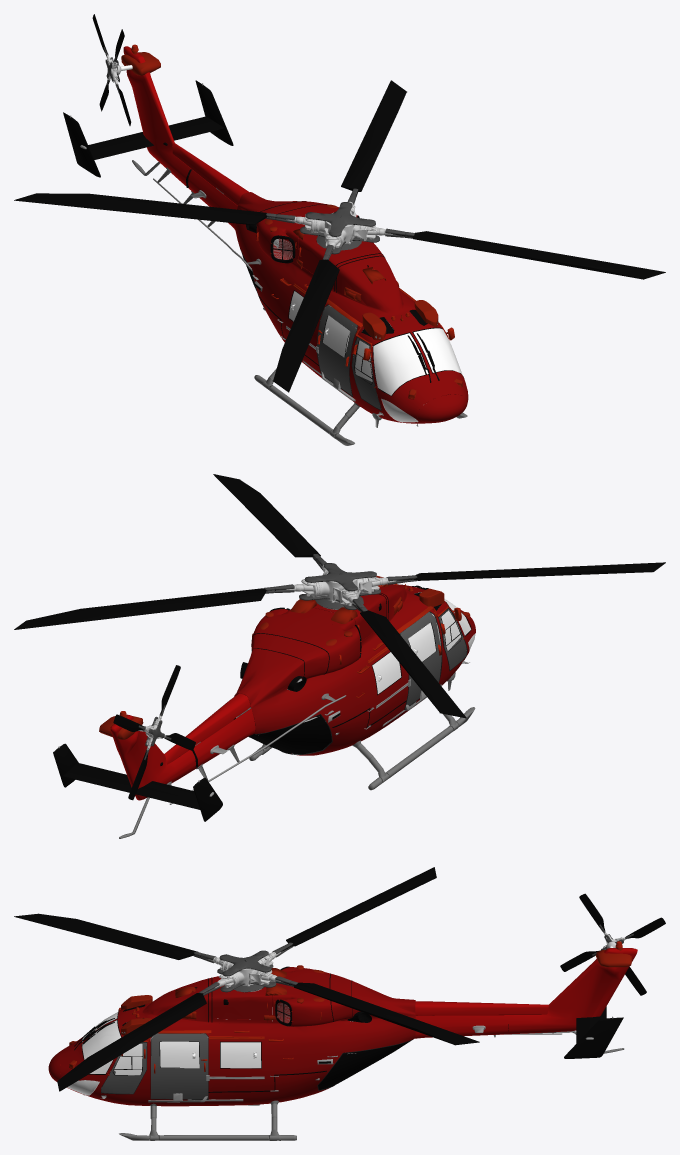
The model's file is helicopter.glb.
The picture shows the model from 3 angles, top to bottom: view 1: azimuth 30°, elevation 25°; view 2: azimuth 150°, elevation 25°; view 3: azimuth 270°, elevation 25°; orthographic projection. The views are drawn at different scales.
Visible parts, largest first — view 1: helicopter_112, heli_base.002_110, helicopter.004_116, blade.001_51, blade.003_53, blade.002_52, blade_42, Plane_140, Plane.001_141, helicopter.008_120, heli_base.003_111, Cylinder_98 (+3 smaller); view 2: helicopter_112, heli_base.002_110, blade_42, blade.001_51, blade.002_52, blade.003_53, Plane_140, helicopter.007_119, Cylinder_98, heli_base.003_111, Plane.001_141, helicopter.008_120 (+4 smaller); view 3: helicopter_112, heli_base.002_110, helicopter.008_120, blade.002_52, blade.003_53, blade_42, blade.001_51, heli_base.003_111, Cylinder_98, helicopter.007_119, Plane.001_141, helicopter.011_123 (+11 smaller).
Part boxes in pixels (x1,y1,x2,y2): helicopter_112: [234, 192, 468, 423]; heli_base.002_110: [123, 46, 238, 229]; helicopter.004_116: [372, 328, 462, 395]; blade.001_51: [14, 193, 276, 225]; blade.003_53: [272, 259, 339, 392]; blade.002_52: [395, 231, 665, 279]; blade_42: [341, 80, 406, 195]; Plane_140: [88, 116, 224, 159]; Plane.001_141: [63, 80, 233, 177]; helicopter.008_120: [317, 305, 357, 395]; heli_base.003_111: [172, 143, 249, 204]; Cylinder_98: [254, 368, 467, 445]; helicopter_112: [234, 584, 475, 755]; heli_base.002_110: [110, 708, 255, 800]; blade_42: [14, 588, 275, 629]; blade.001_51: [357, 606, 466, 718]; blade.002_52: [213, 474, 320, 559]; blade.003_53: [399, 562, 665, 580]; Plane_140: [62, 763, 200, 809]; helicopter.007_119: [234, 714, 331, 754]; Cylinder_98: [249, 707, 475, 790]; heli_base.003_111: [164, 693, 250, 764]; Plane.001_141: [53, 743, 222, 821]; helicopter.008_120: [400, 612, 441, 705]; helicopter_112: [48, 967, 415, 1106]; heli_base.002_110: [414, 948, 637, 1038]; helicopter.008_120: [151, 1033, 208, 1099]; blade.002_52: [57, 991, 208, 1091]; blade.003_53: [14, 913, 200, 959]; blade_42: [283, 982, 479, 1045]; blade.001_51: [282, 867, 436, 951]; heli_base.003_111: [415, 1001, 548, 1015]; Cylinder_98: [119, 1100, 296, 1140]; helicopter.007_119: [318, 1041, 410, 1089]; Plane.001_141: [564, 1017, 623, 1058]; helicopter.011_123: [220, 1042, 261, 1068].
Size of the model in its own units: 11.19 by 5.5 by 15.6.
23 materials, 3 textured.
